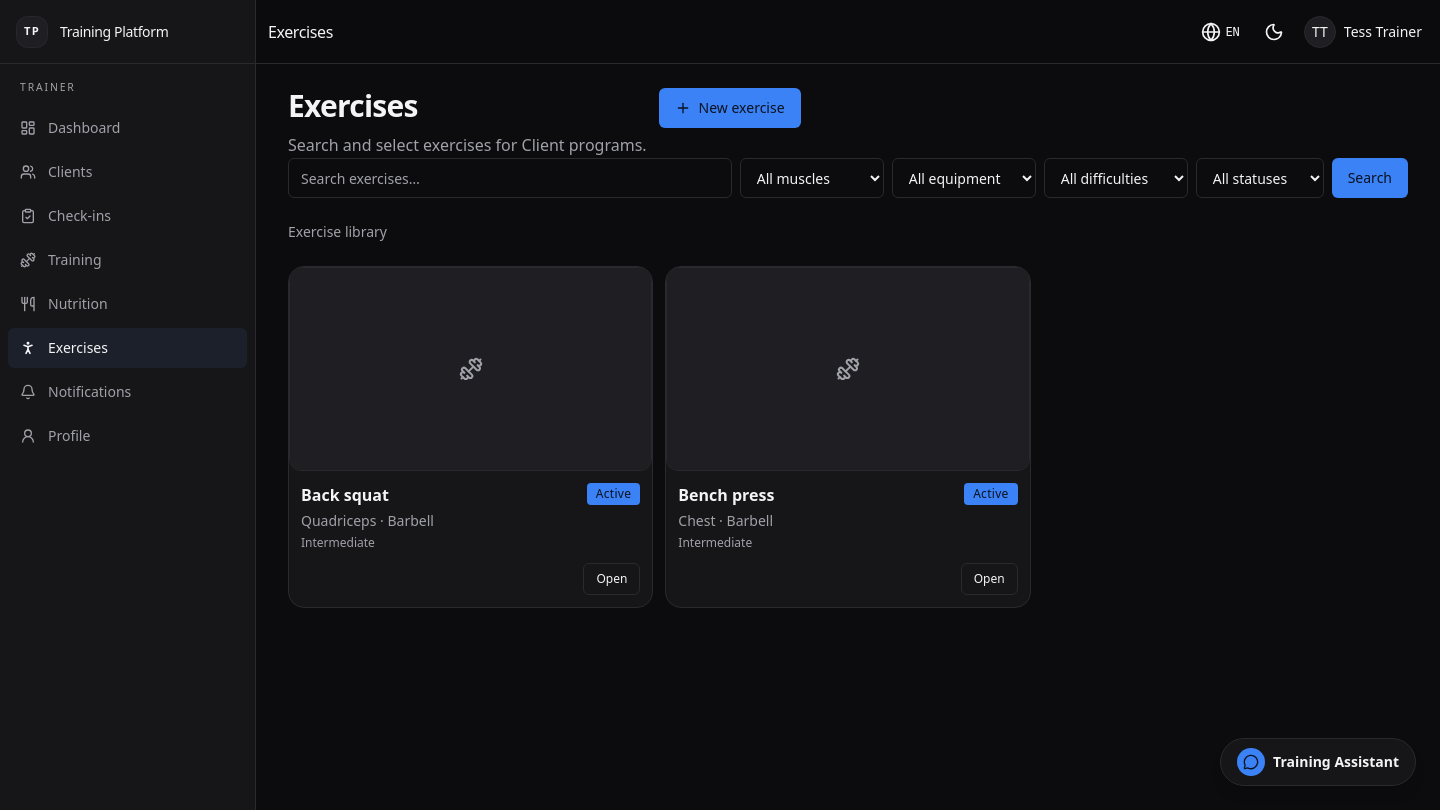
Trainer workspace › filters the exercise library by search and muscle without a permanent create form
Expected: the heading "Back squat" is shown, top-left (301, 483), bottom-right (389, 507)
Expected: the heading "Bench press" is shown, top-left (678, 483), bottom-right (774, 507)
Type "bench" into the field labelled "Search exercises…" at [510, 178], box top-left (288, 158), bottom-right (732, 198)
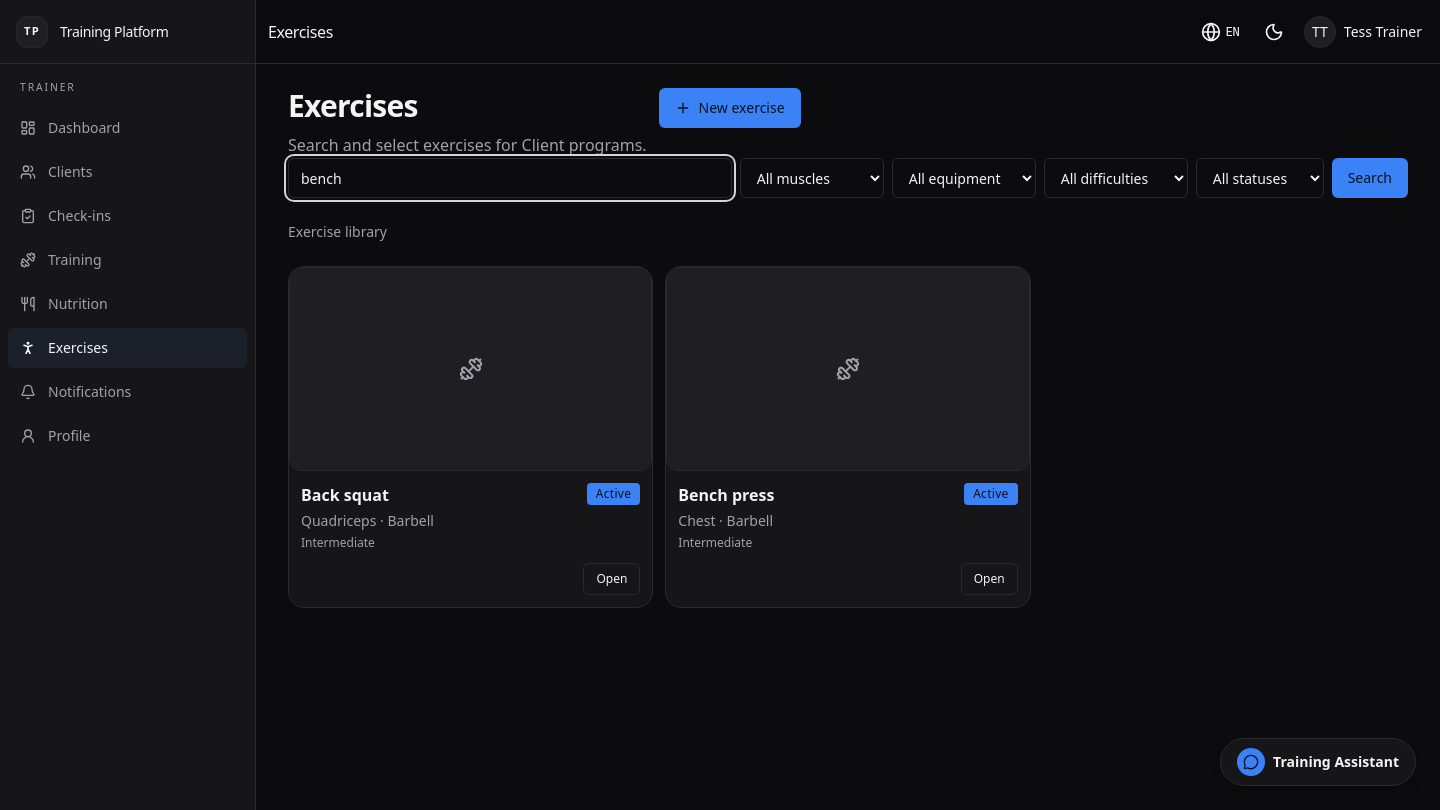
Click the button "Search" at [1370, 178], box top-left (1332, 158), bottom-right (1408, 198)
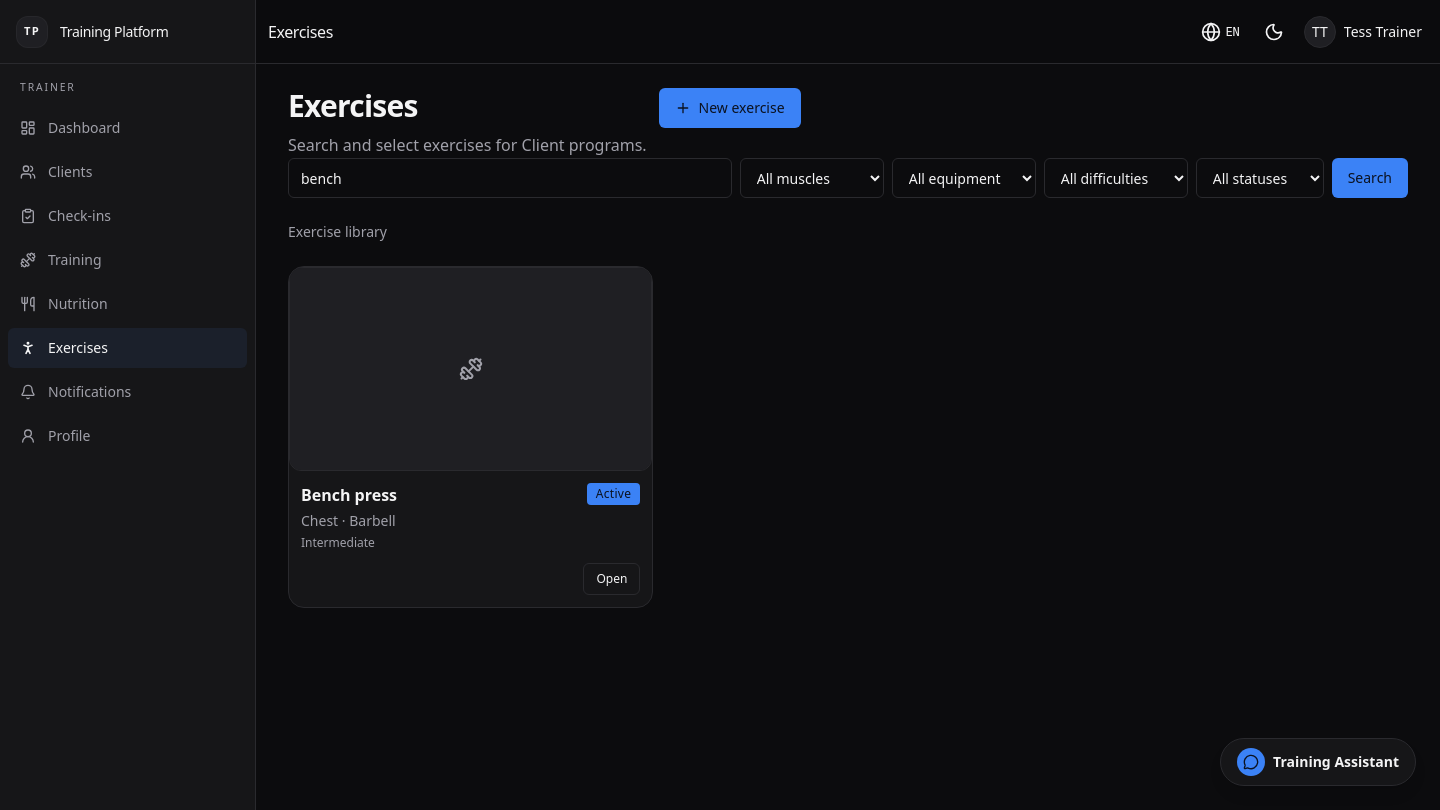
Expected: the heading "Bench press" is shown, top-left (301, 483), bottom-right (397, 507)
Expected: the heading "Back squat" is gone
Clear the field named "Search exercises…" at [510, 178], box top-left (288, 158), bottom-right (732, 198)
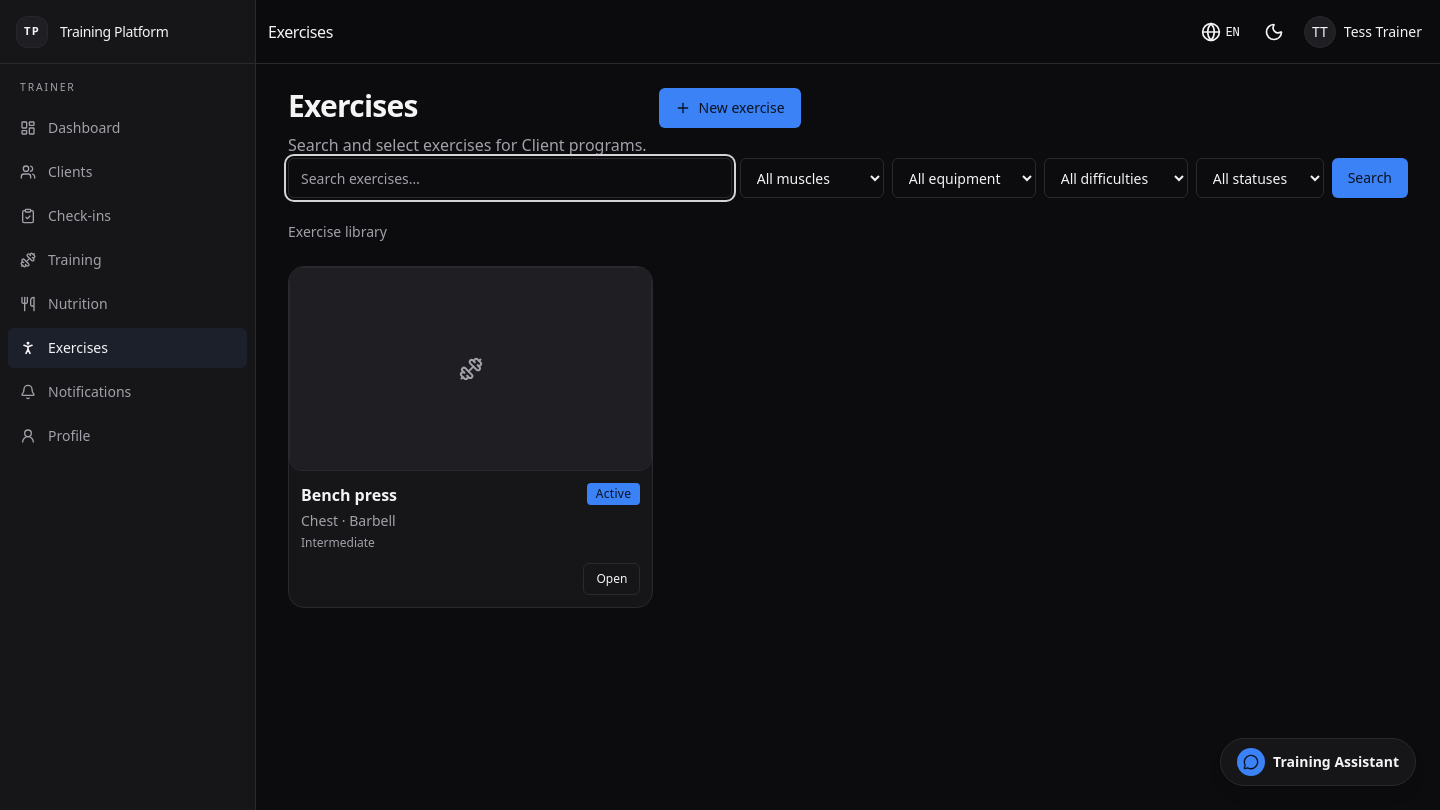
Click the button "Search" at [1370, 178], box top-left (1332, 158), bottom-right (1408, 198)
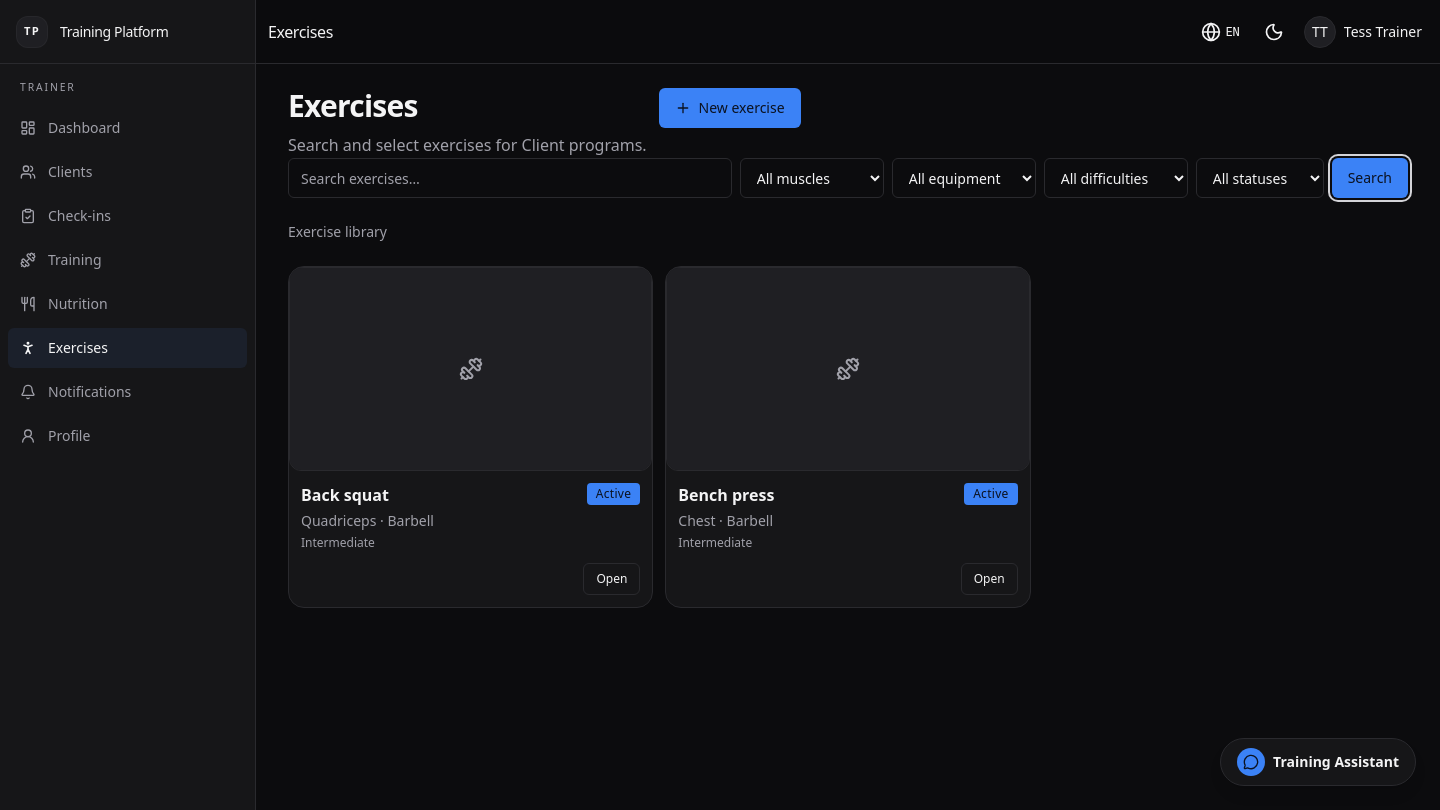
Expected: the heading "Back squat" is shown, top-left (301, 483), bottom-right (389, 507)
Select "Chest" in the dropdown named "Muscle" at [812, 178], box top-left (740, 158), bottom-right (884, 198)
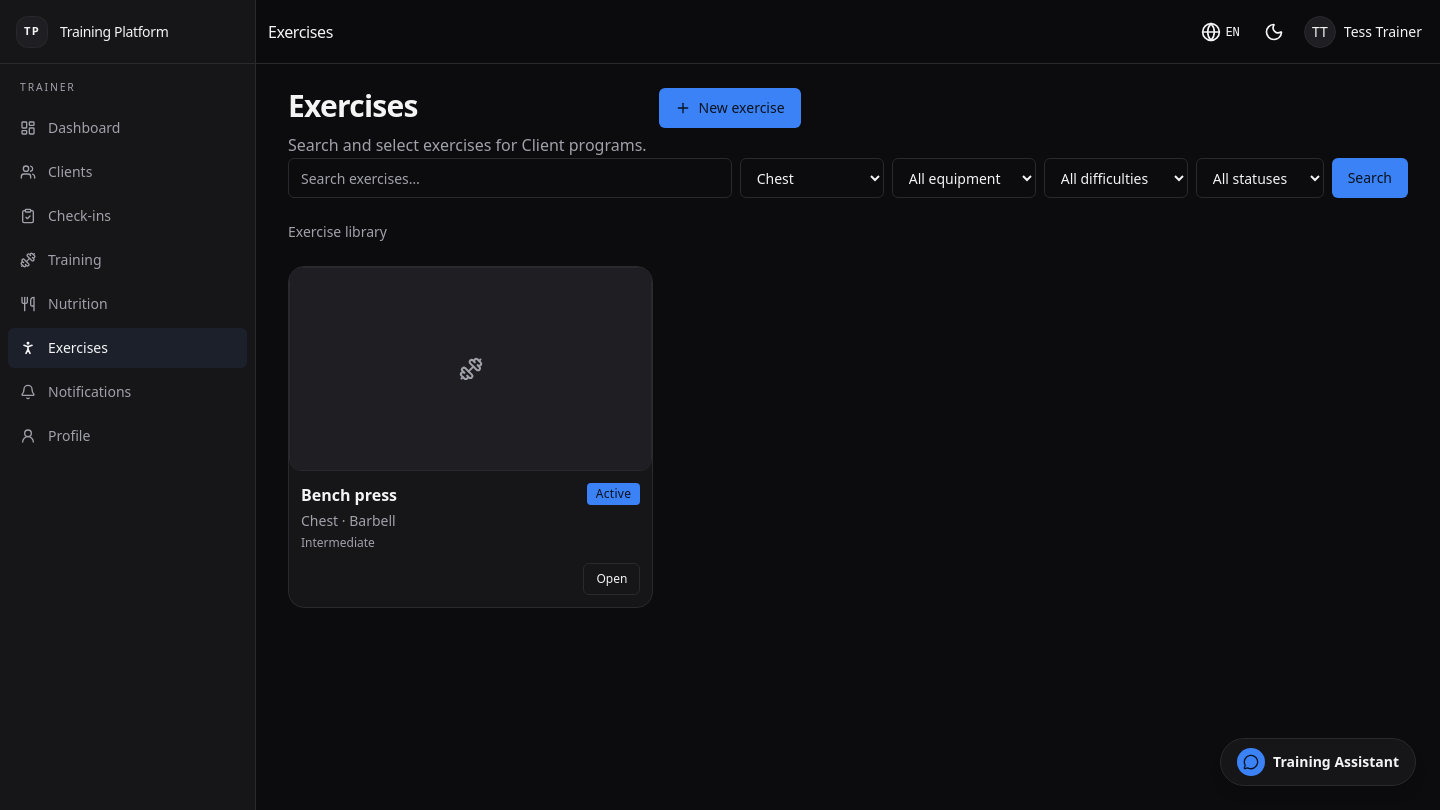
Expected: the heading "Bench press" is shown, top-left (301, 483), bottom-right (397, 507)
Expected: the heading "Back squat" is gone
